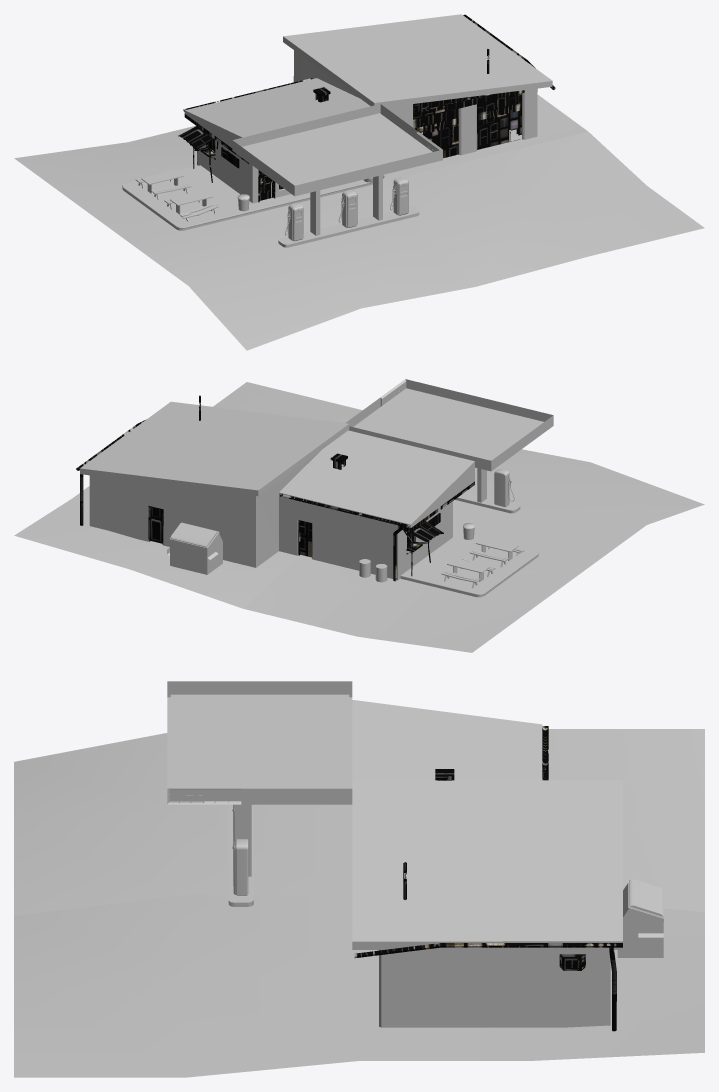
File: Gas_Station.fbx
3 views of the same model, one above another, from view 1: azimuth 30°, elevation 25°; view 2: azimuth 150°, elevation 25°; view 3: azimuth 270°, elevation 25° (orthographic). The views are drawn at different scales.
Parts seen in each view (by area): view 1: Lot_A, Lot_B, Exterior, Island_Props, Lot_D, Trims, Lot_C; view 2: Exterior, Island_Props, Lot_D, Lot_B, Lot_C, Trims, Lot_A; view 3: Exterior, Lot_A, Lot_B, Island_Props, Lot_C, Lot_D, Trims.
Boxes of the visible parts, bbox=[...] form: Lot_A: bbox=[360, 131, 704, 286]; Lot_B: bbox=[130, 188, 475, 350]; Exterior: bbox=[184, 14, 552, 203]; Island_Props: bbox=[122, 104, 442, 247]; Lot_D: bbox=[14, 125, 197, 243]; Trims: bbox=[178, 14, 555, 202]; Lot_C: bbox=[383, 94, 587, 181]; Exterior: bbox=[80, 401, 474, 580]; Island_Props: bbox=[167, 379, 553, 597]; Lot_D: bbox=[243, 555, 587, 652]; Lot_B: bbox=[453, 449, 704, 567]; Lot_C: bbox=[14, 486, 300, 608]; Trims: bbox=[76, 395, 474, 581]; Lot_A: bbox=[213, 382, 362, 422]; Exterior: bbox=[352, 700, 622, 1027]; Lot_A: bbox=[14, 895, 359, 1077]; Lot_B: bbox=[14, 733, 352, 915]; Island_Props: bbox=[167, 681, 663, 957]; Lot_C: bbox=[359, 908, 704, 1060]; Lot_D: bbox=[548, 729, 704, 912]; Trims: bbox=[354, 726, 622, 1031].
Size of the model in its own units: 2777 by 660 by 2444.
